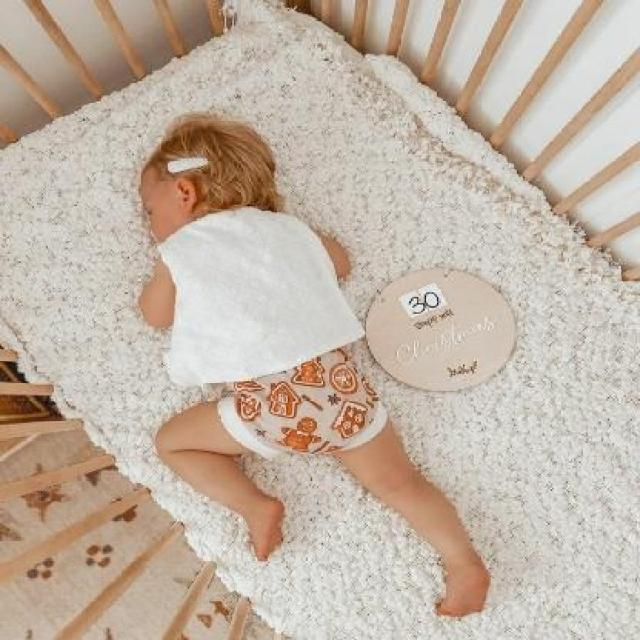child: (135, 114, 491, 617)
